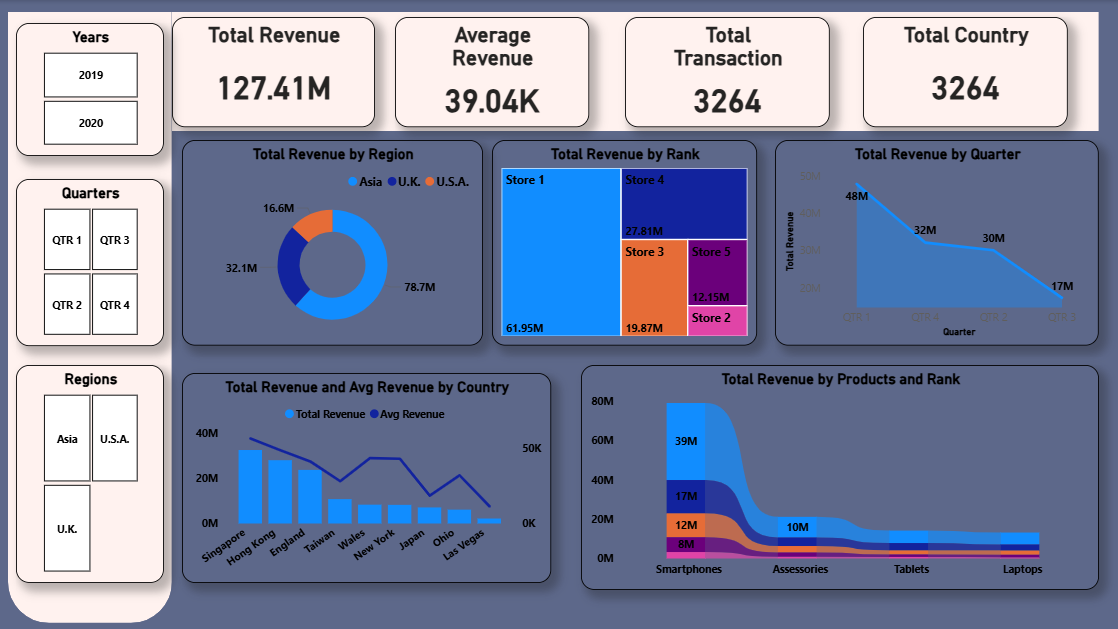

The dashboard page shown, as its layout file describes it:
{"tool":"powerbi","page":{"name":"Page 1","canvas":[1280,720],"ordinal":0},"visuals":[{"type":"shape","box":[10.3,13.7,187.4,698.3],"z":0},{"type":"shape","box":[197.7,13.7,1059.4,136],"z":1000},{"type":"card","title":"Total Revenue","fields":{"Values":["Sheet1.Total Revenue"]},"box":[197.7,19.4,232,125.7],"z":2000},{"type":"card","title":"Average Revenue","fields":{"Values":["Sheet1.Avg Revenue"]},"box":[452.6,19.4,221.7,125.7],"z":3000},{"type":"card","title":"Total Transaction","fields":{"Values":["Sheet1.Total Transaction"]},"box":[715.4,19.4,234.3,125.7],"z":4000},{"type":"card","title":"Total Country","fields":{"Values":["Sheet1.Total Country"]},"box":[987.4,19.4,234.3,125.7],"z":5000},{"type":"donutChart","fields":{"Y":["Sheet1.Total Revenue"],"Category":["Sheet1.Region"]},"box":[209.1,160,344,235.4],"z":6000},{"type":"lineStackedColumnComboChart","fields":{"Y":["Sheet1.Total Revenue"],"Category":["Sheet1.Country"],"Y2":["Sheet1.Avg Revenue"]},"box":[209.1,426.3,421.7,240],"z":7000},{"type":"treemap","fields":{"Values":["Sheet1.Total Revenue"],"Group":["Sheet1.Rank"]},"box":[563.4,160,302.9,235.4],"z":8000},{"type":"areaChart","fields":{"Y":["Sheet1.Total Revenue"],"Category":["Sheet1.Quarter"]},"box":[886.9,160,370.3,235.4],"z":9000},{"type":"slicer","title":"Years","fields":{"Values":["Sheet1.Years"]},"box":[19.4,26.3,169.1,152],"z":10000},{"type":"slicer","title":"Quarters","fields":{"Values":["Sheet1.Quarter"]},"box":[19.4,204.6,169.1,190.9],"z":11000},{"type":"slicer","title":"Regions","fields":{"Values":["Sheet1.Region"]},"box":[19.4,417.1,169.1,249.1],"z":12000},{"type":"ribbonChart","fields":{"Category":["Sheet1.Products"],"Y":["Sheet1.Total Revenue"],"Series":["Sheet1.Rank"]},"box":[665.1,417.1,592,257.1],"z":13000}]}

Visuals, with their boxes in screenshot pixels (x1, y1, x2, y2), scaled from the page's 1280x720 canvas onto the 1118x629 screenshot:
shape: <box>9,12,173,622</box>
shape: <box>173,12,1098,131</box>
"Total Revenue" card: <box>173,17,375,127</box>
"Average Revenue" card: <box>395,17,589,127</box>
"Total Transaction" card: <box>625,17,830,127</box>
"Total Country" card: <box>862,17,1067,127</box>
donutChart - Sheet1.Total Revenue x Sheet1.Region: <box>183,140,483,345</box>
lineStackedColumnComboChart - Sheet1.Total Revenue x Sheet1.Country: <box>183,372,551,582</box>
treemap - Sheet1.Total Revenue x Sheet1.Rank: <box>492,140,757,345</box>
areaChart - Sheet1.Total Revenue x Sheet1.Quarter: <box>775,140,1098,345</box>
"Years" slicer: <box>17,23,165,156</box>
"Quarters" slicer: <box>17,179,165,346</box>
"Regions" slicer: <box>17,364,165,582</box>
ribbonChart - Sheet1.Products x Sheet1.Total Revenue: <box>581,364,1098,589</box>
